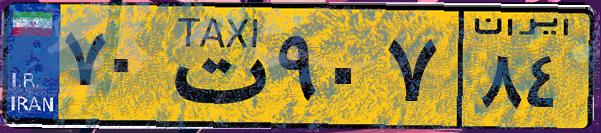0: (330, 28, 385, 110), (110, 28, 158, 98)
4: (525, 38, 570, 115)
7: (385, 28, 445, 110), (57, 26, 110, 100)
8: (475, 38, 525, 113)
9: (270, 28, 330, 110)
ت: (158, 12, 270, 120)
